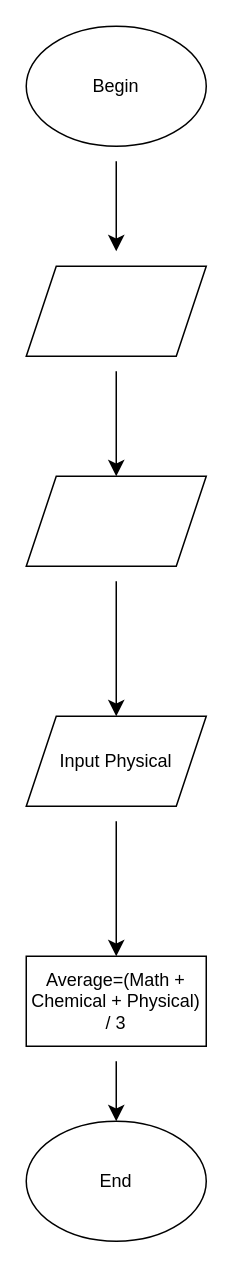
Some shapes in this 233 by 1268 pixel diagram are drawn without their labels. Here are the shapes that lost their labels. From the top down, the centre of each, then its label:
At (115,310): "Input Math".
At (115,520): "Input Chemical".
